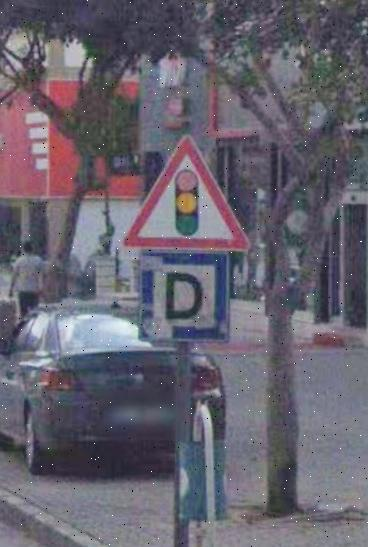station: (141, 249, 228, 337)
